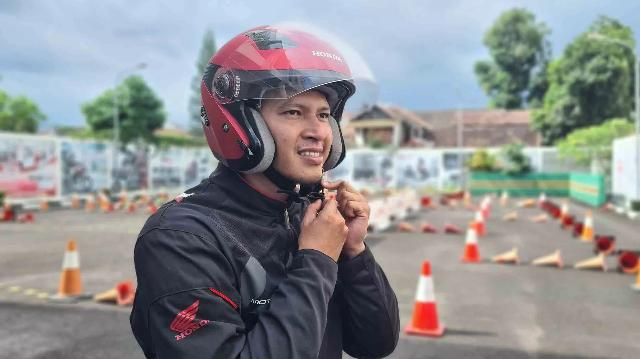helm: (202, 20, 359, 188)
